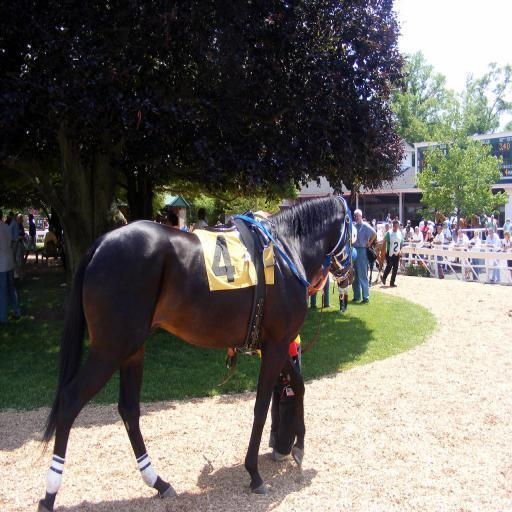horse: (34, 184, 358, 512)
